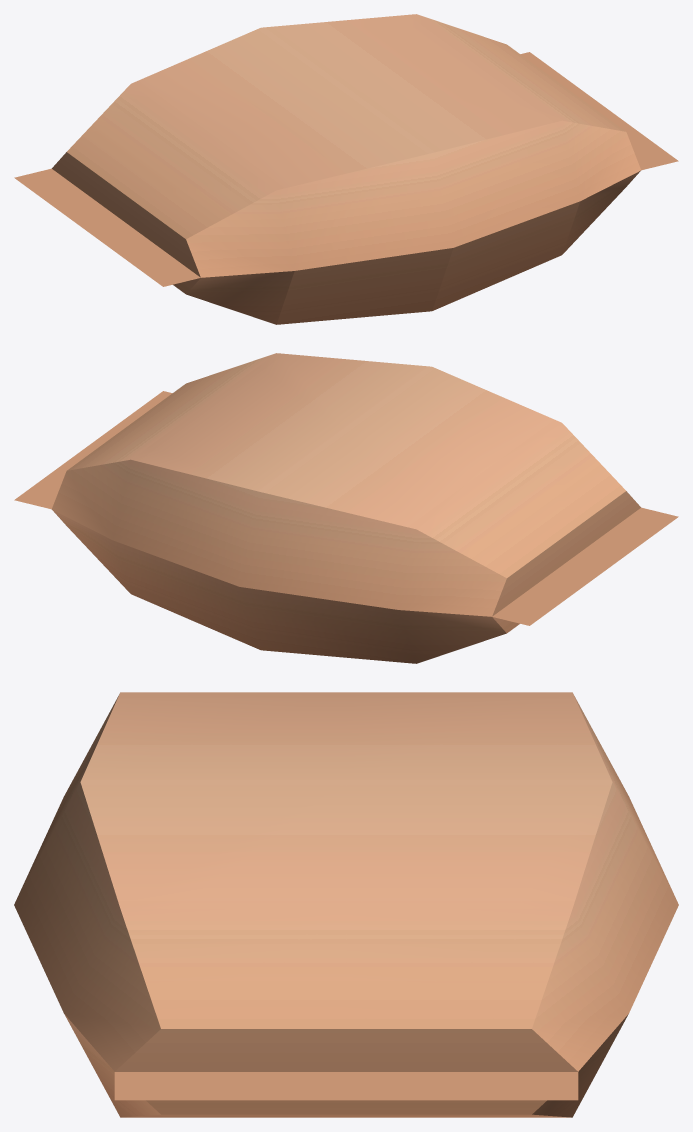
The model's file is bag-flat.glb.
3 renders of one model, top to bottom at view 1: azimuth 30°, elevation 25°; view 2: azimuth 150°, elevation 25°; view 3: azimuth 270°, elevation 25°, orthographic. The views are drawn at different scales.
Parts seen in each view (by area): view 1: bag-flat; view 2: bag-flat; view 3: bag-flat.
Boxes of the visible parts, left/top/right/bottom form: bag-flat: left=14, top=14, right=678, bottom=324; bag-flat: left=14, top=353, right=678, bottom=663; bag-flat: left=14, top=692, right=678, bottom=1117.
Size of the model in its own units: 0.65 by 0.1905 by 0.4675.
Materials: 1 (1 with a texture image).
